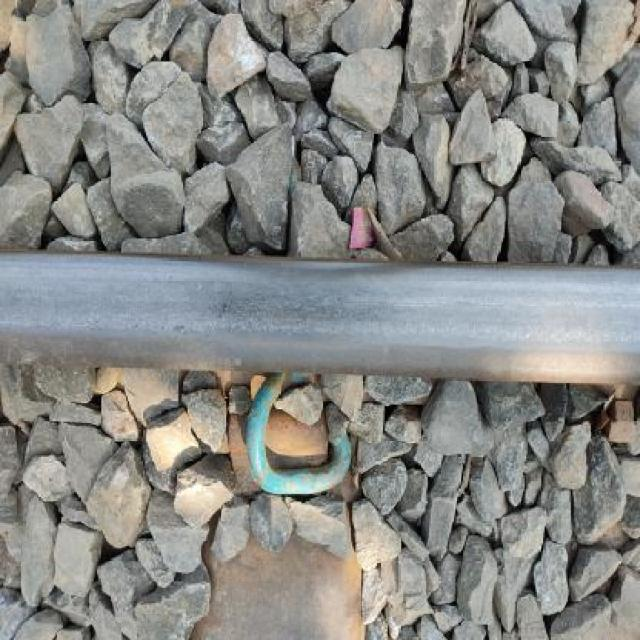non-defective: (0, 243, 638, 392)
